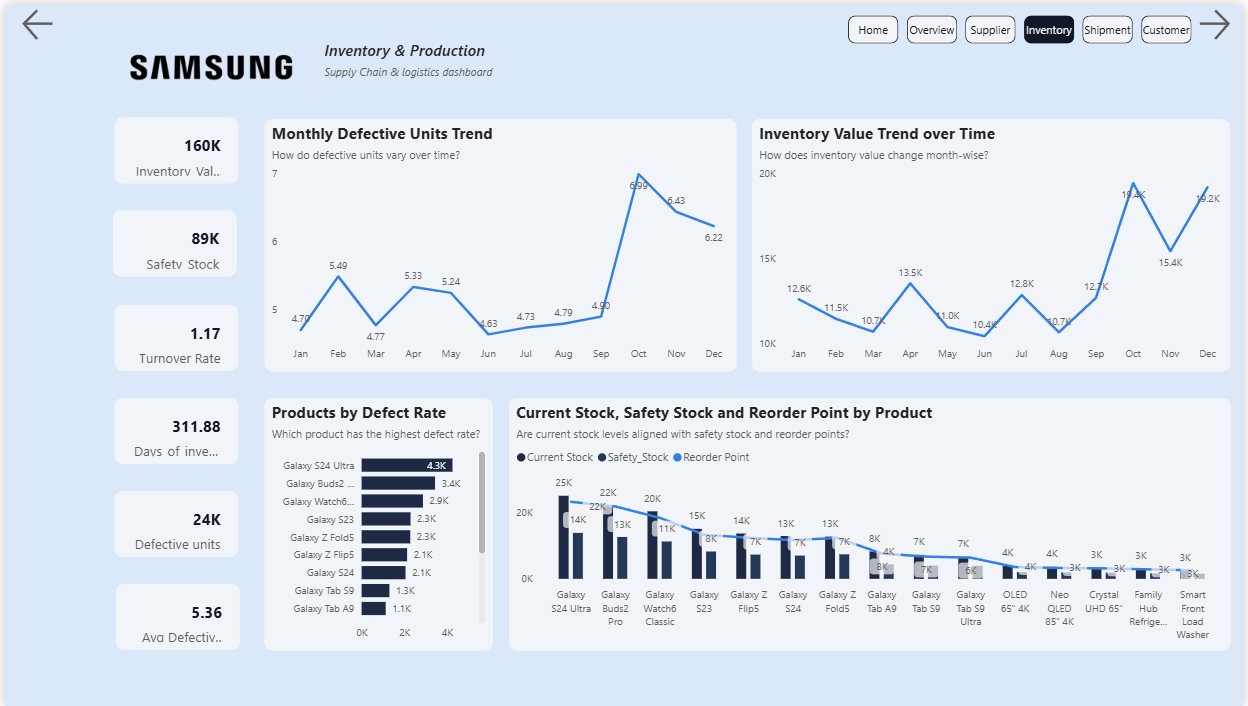

What the dashboard file says about the page in this screenshot:
{"tool":"powerbi","page":{"name":"Inventory","canvas":[1500,850],"ordinal":3},"visuals":[{"type":"shape","title":"Inventory & Production","box":[387.1,41.4,275.7,135.7],"z":0},{"type":"shape","box":[315.7,47.1,120,50],"z":1000},{"type":"image","box":[131.4,12.9,228.6,124.3],"z":2000},{"type":"cardVisual","fields":{"Data":["MeasuresTable.Safety_Stock"]},"box":[131.3,249.7,150,80],"z":3000},{"type":"cardVisual","fields":{"Data":["MeasuresTable.Days_of_inventory"]},"box":[133.3,475.9,150,80],"z":4000},{"type":"cardVisual","fields":{"Data":["MeasuresTable.Turnover Rate"]},"box":[133.3,362.8,150,80],"z":5000},{"type":"cardVisual","fields":{"Data":["Avg(fact_production.defective_units)"]},"box":[134,702,150,80],"z":6000},{"type":"cardVisual","fields":{"Data":["Sum(fact_production.defective_units)"]},"box":[133.3,588.9,150,80],"z":7000},{"type":"cardVisual","fields":{"Data":["MeasuresTable.Inventory_Value"]},"box":[133.3,136.7,150,80],"z":8000},{"type":"clusteredBarChart","title":"Products by Defect Rate","fields":{"Y":["MeasuresTable.Defect_Rate"],"Category":["dim_product.product_name"]},"box":[315.3,476.6,276.8,306.1],"z":9000},{"type":"lineClusteredColumnComboChart","title":"Current Stock, Safety Stock and Reorder Point by Product","fields":{"Category":["dim_product.product_name"],"Y":["MeasuresTable.Inventory_Value","MeasuresTable.Safety_Stock"],"Y2":["MeasuresTable.Reorder Point"]},"box":[610.4,476.6,874.3,306.1],"z":10000},{"type":"lineChart","title":"Monthly Defective Units Trend","fields":{"Category":["dim_date.Month_Short"],"Y":["Avg(fact_production.defective_units)"]},"box":[315.3,137.5,571.9,306.1],"z":11000},{"type":"lineChart","title":"Inventory Value Trend over Time","fields":{"Category":["dim_date.Month_Short"],"Y":["MeasuresTable.Inventory_Value"]},"box":[905.5,137.5,579.2,306.1],"z":12000},{"type":"actionButton","box":[1440.7,0,58.7,47.7],"z":13000},{"type":"pageNavigator","box":[1021,12.8,419.8,34.8],"z":14000},{"type":"actionButton","box":[16.5,0,60.5,47.7],"z":15000}]}

Visuals, with their boxes in screenshot pixels (x1, y1, x2, y2), scaled from the page's 1500x850 canvas onto the 1248x706 screenshot:
"Inventory & Production" shape: rect(322, 34, 551, 147)
shape: rect(263, 39, 363, 81)
image: rect(109, 11, 300, 114)
cardVisual - MeasuresTable.Safety_Stock: rect(109, 207, 234, 274)
cardVisual - MeasuresTable.Days_of_inventory: rect(111, 395, 236, 462)
cardVisual - MeasuresTable.Turnover Rate: rect(111, 301, 236, 368)
cardVisual - Avg(fact_production.defective_units): rect(111, 583, 236, 650)
cardVisual - Sum(fact_production.defective_units): rect(111, 489, 236, 556)
cardVisual - MeasuresTable.Inventory_Value: rect(111, 114, 236, 180)
"Products by Defect Rate" clusteredBarChart: rect(262, 396, 493, 650)
"Current Stock, Safety Stock and Reorder Point by Product" lineClusteredColumnComboChart: rect(508, 396, 1235, 650)
"Monthly Defective Units Trend" lineChart: rect(262, 114, 738, 368)
"Inventory Value Trend over Time" lineChart: rect(753, 114, 1235, 368)
actionButton: rect(1199, 0, 1247, 40)
pageNavigator: rect(849, 11, 1199, 40)
actionButton: rect(14, 0, 64, 40)
